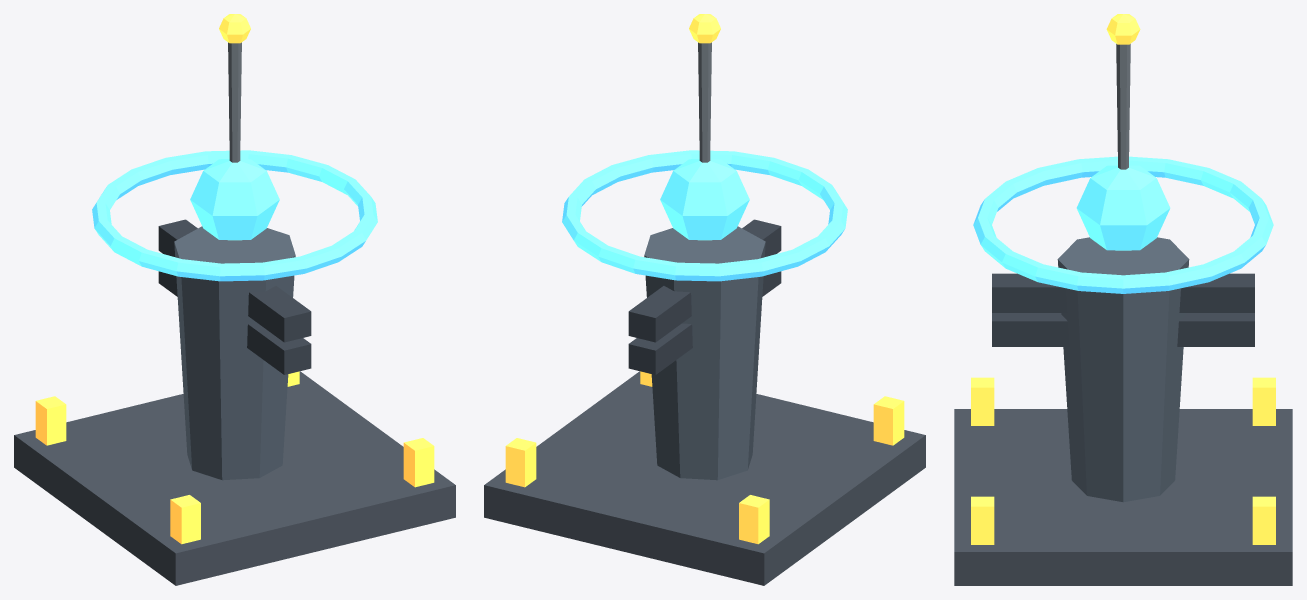
File: power_hub.glb
The picture shows the model from 3 angles, left to right: view 1: azimuth 30°, elevation 25°; view 2: azimuth 150°, elevation 25°; view 3: azimuth 270°, elevation 25°; orthographic projection. The views are drawn at different scales.
Visible parts, largest first — view 1: M_b0, M_b1, Ring, M_b2, Glow, M_b7, M_b5, M_b6; view 2: M_b0, M_b1, Ring, M_b2, Glow, M_b7, M_b5, M_b6; view 3: M_b0, M_b1, Ring, M_b2, Glow, M_b7, M_b5, M_b6.
Boxes of the visible parts, left/top/right/bottom form: M_b0: left=14, top=371, right=455, bottom=585; M_b1: left=174, top=226, right=295, bottom=480; Ring: left=92, top=150, right=377, bottom=281; M_b2: left=158, top=219, right=311, bottom=374; Glow: left=190, top=159, right=279, bottom=240; M_b7: left=35, top=371, right=434, bottom=544; M_b5: left=228, top=42, right=241, bottom=162; M_b6: left=219, top=14, right=250, bottom=43; M_b0: left=484, top=371, right=925, bottom=585; M_b1: left=644, top=226, right=765, bottom=480; Ring: left=562, top=150, right=847, bottom=281; M_b2: left=628, top=219, right=781, bottom=374; Glow: left=660, top=159, right=749, bottom=240; M_b7: left=505, top=371, right=904, bottom=544; M_b5: left=698, top=42, right=711, bottom=162; M_b6: left=689, top=14, right=720, bottom=43; M_b0: left=954, top=409, right=1292, bottom=585; M_b1: left=1057, top=237, right=1189, bottom=502; Ring: left=973, top=156, right=1273, bottom=293; M_b2: left=992, top=273, right=1254, bottom=346; Glow: left=1076, top=165, right=1170, bottom=250; M_b7: left=971, top=377, right=1275, bottom=544; M_b5: left=1116, top=44, right=1130, bottom=169; M_b6: left=1106, top=14, right=1140, bottom=44.
Bounding box in the file's own units: 3.6 × 5.88 × 3.6.
